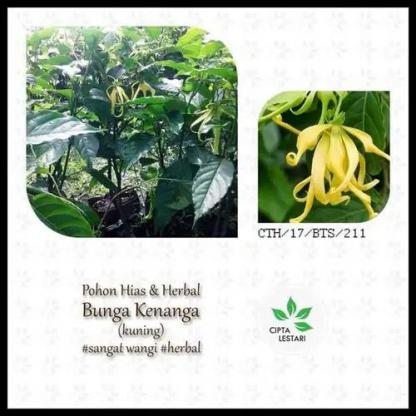Kenanga: (302, 112, 370, 207), (195, 106, 221, 144), (104, 81, 128, 119), (137, 77, 153, 103)
